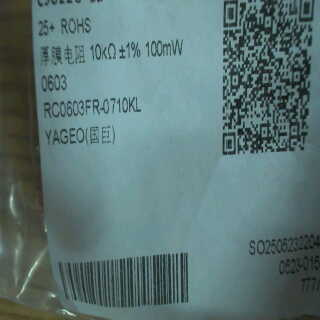10kR: (88, 39, 116, 65)
